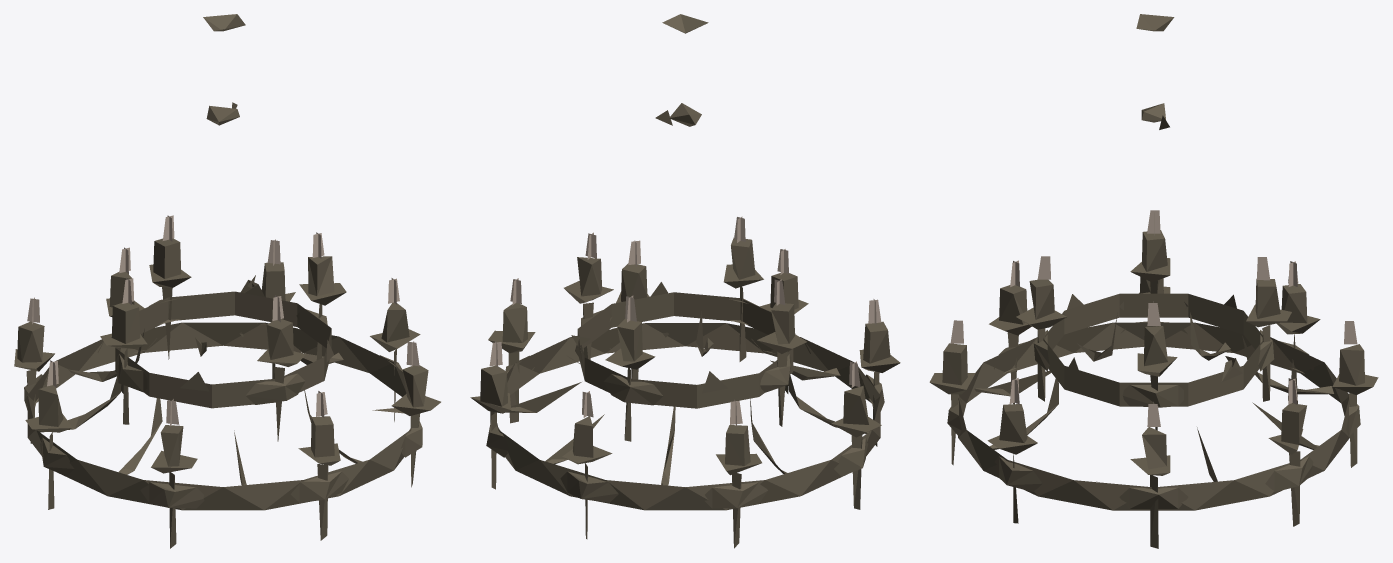
The model's file is chandelier-ring.lod0.glb.
3 renders of one model, left to right at view 1: azimuth 30°, elevation 25°; view 2: azimuth 150°, elevation 25°; view 3: azimuth 270°, elevation 25°, orthographic.
Parts seen in each view (by area): view 1: group42_fire_0; view 2: group42_fire_0; view 3: group42_fire_0.
Part boxes in pixels (x1,y1,x2,y2): group42_fire_0: (14, 14, 440, 548); group42_fire_0: (470, 14, 900, 548); group42_fire_0: (929, 14, 1378, 548).
Size of the model in its own units: 1.8 by 1.97 by 1.8.
